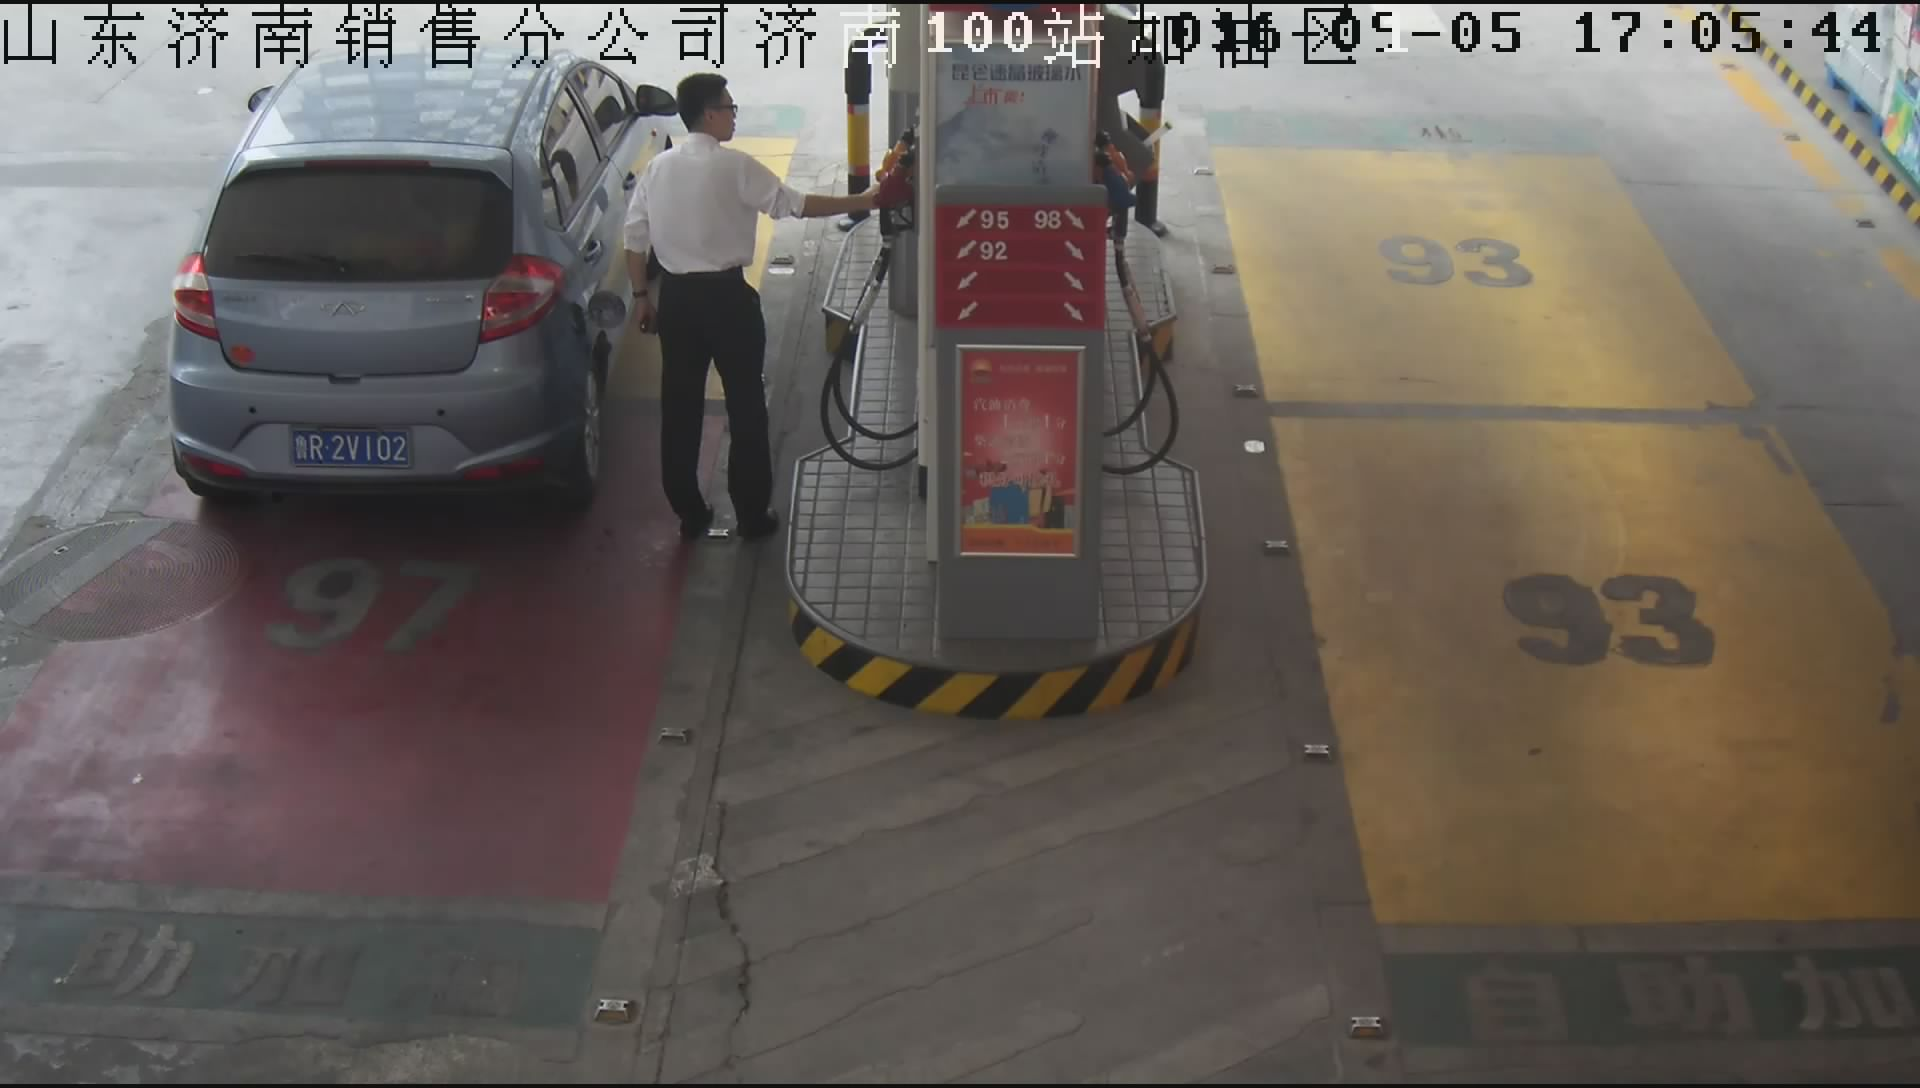blue: (287, 427, 414, 471)
